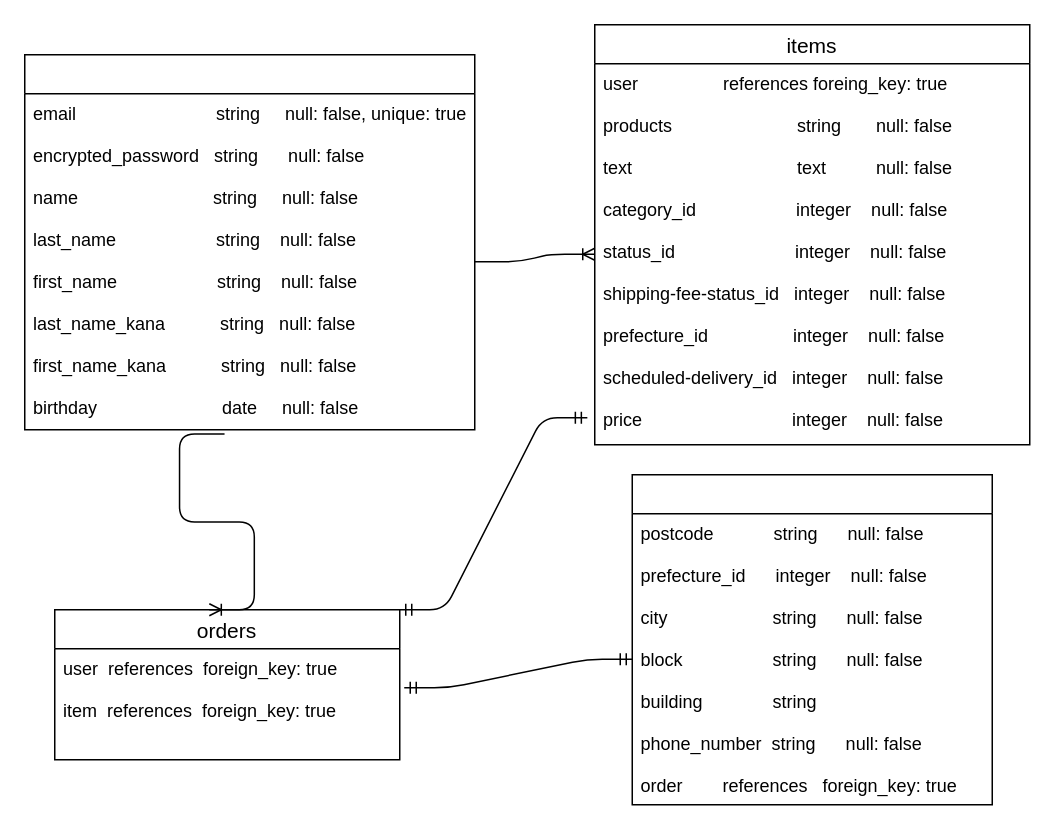
The diagram is 1055 pixels wide and 830 high, and some of its shapes have lost their labels. The shapes that lost their labels are listed below. From the top down, each one's box as (x1, y1, x2, y2) in pixels, then its label:
(23, 53, 475, 430): users
(631, 473, 992, 805): addresses
